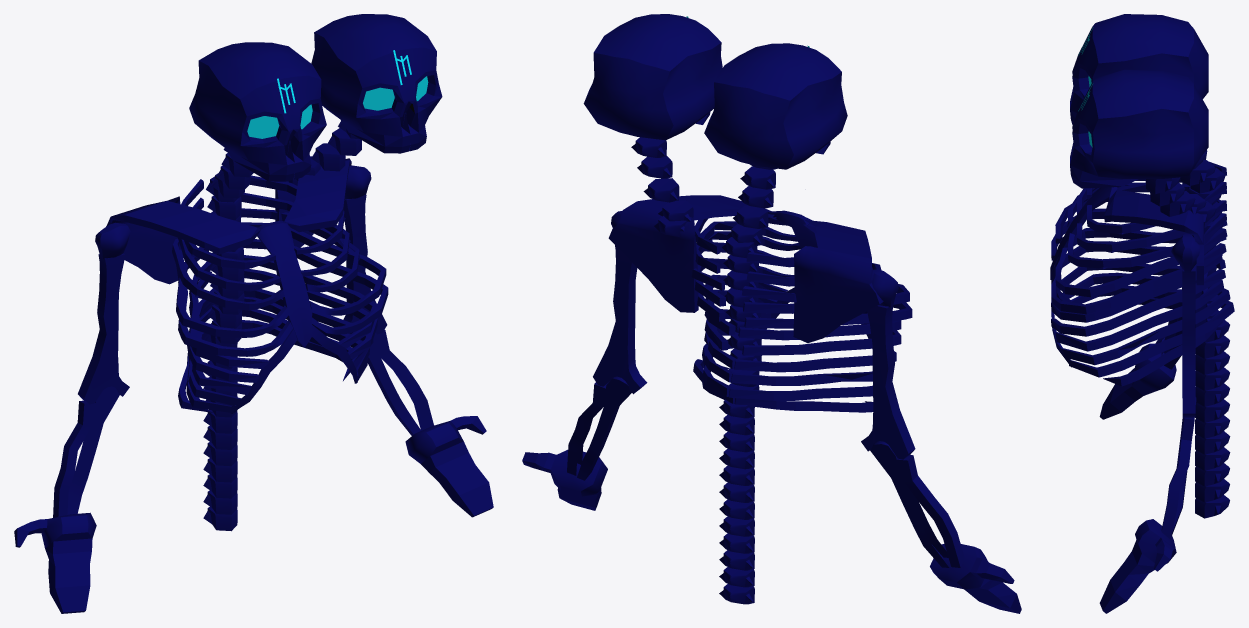
File: EsqueletoHelheimF.fbx
The picture shows the model from 3 angles, left to right: view 1: azimuth 30°, elevation 25°; view 2: azimuth 150°, elevation 25°; view 3: azimuth 270°, elevation 25°; orthographic projection. The views are drawn at different scales.
Parts seen in each view (by area): view 1: Esqueleto; view 2: Esqueleto; view 3: Esqueleto.
Boxes of the visible parts, bbox=[...] form: Esqueleto: bbox=[14, 14, 493, 613]; Esqueleto: bbox=[522, 14, 1021, 613]; Esqueleto: bbox=[1050, 14, 1234, 613].
Size of the model in its own units: 10.11 by 10.33 by 3.5.
